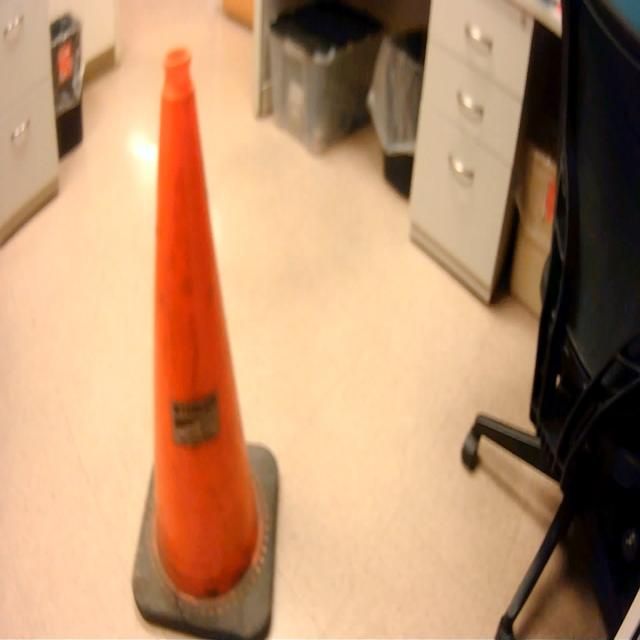traffic cone: (127, 39, 285, 640)
